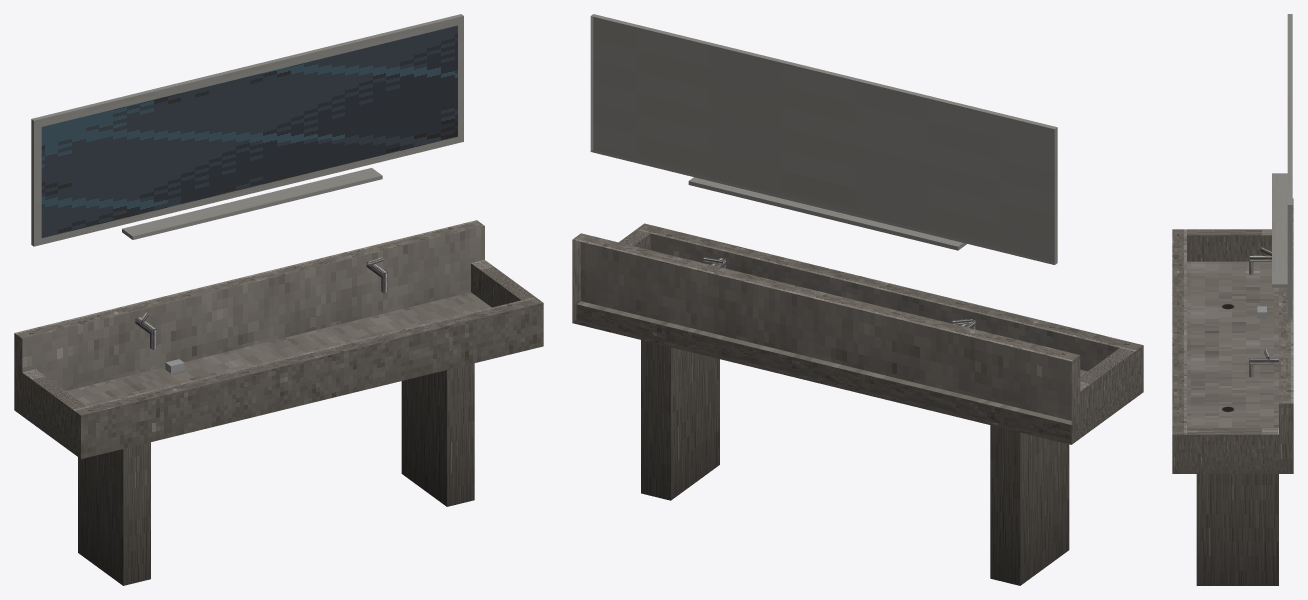
Rendered from prop_hallsink-20-4.glb.
3 views of the same model, side by side, from view 1: azimuth 30°, elevation 25°; view 2: azimuth 150°, elevation 25°; view 3: azimuth 270°, elevation 25° (orthographic). The views are drawn at different scales.
Visible parts, largest first — view 1: prop_hallsink-20-4; view 2: prop_hallsink-20-4; view 3: prop_hallsink-20-4.
Part boxes in pixels (x1,y1,x2,y2): prop_hallsink-20-4: [14, 14, 543, 585]; prop_hallsink-20-4: [572, 14, 1143, 585]; prop_hallsink-20-4: [1172, 14, 1293, 585].
Bounding box in the file's own units: 2 × 1.81 × 0.5.
4 materials, 4 textured.
